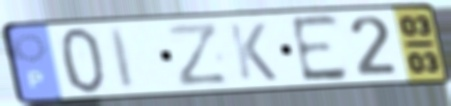0: (57, 25, 109, 96)
2: (346, 14, 402, 79)
E: (287, 12, 352, 86)
I: (107, 25, 139, 92)
K: (226, 21, 281, 83)
Z: (164, 21, 232, 90)
